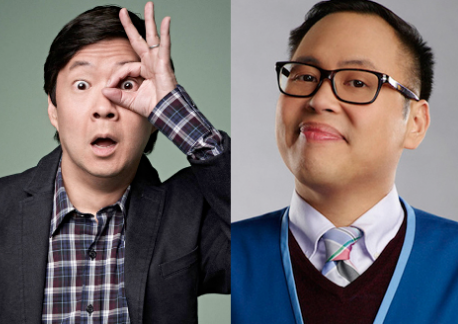bare: (274, 85, 392, 183), (51, 94, 165, 177)
